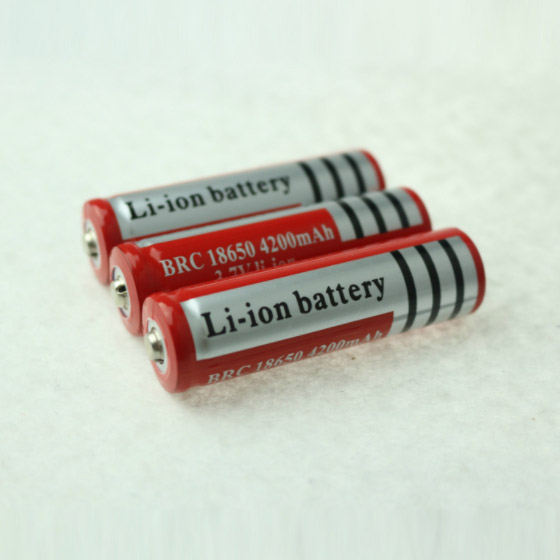Battery: (140, 226, 487, 397), (108, 184, 435, 336), (79, 145, 391, 288)
